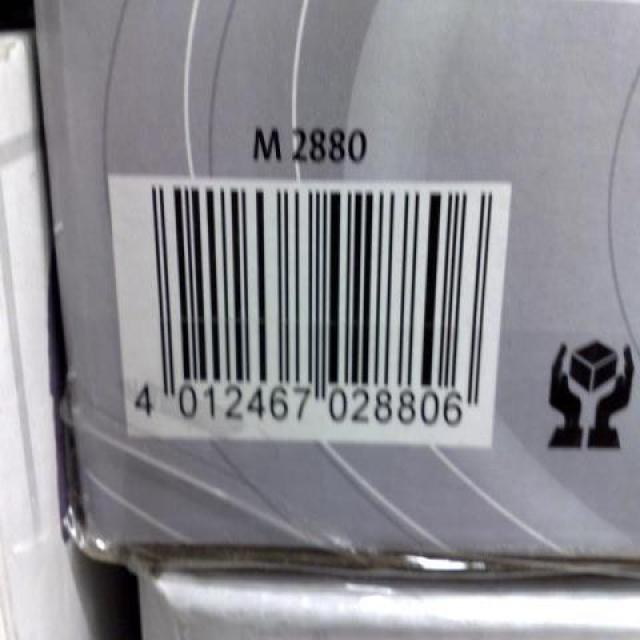Barcode: (108, 176, 512, 447)
